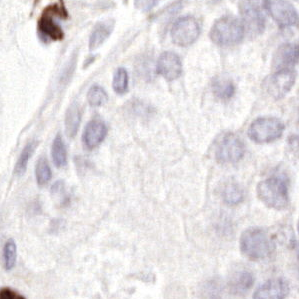Lymphocyte: (35, 4, 70, 42)
